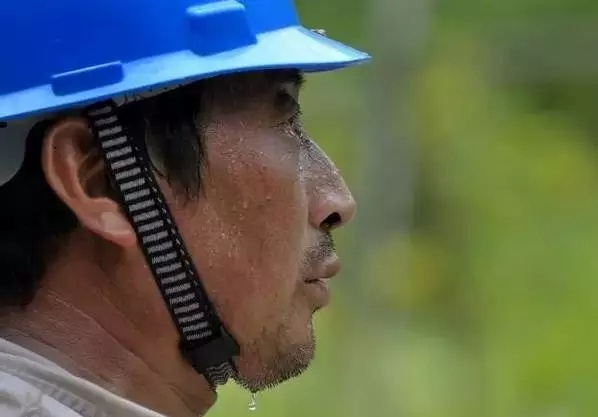blue: (1, 1, 345, 392)
